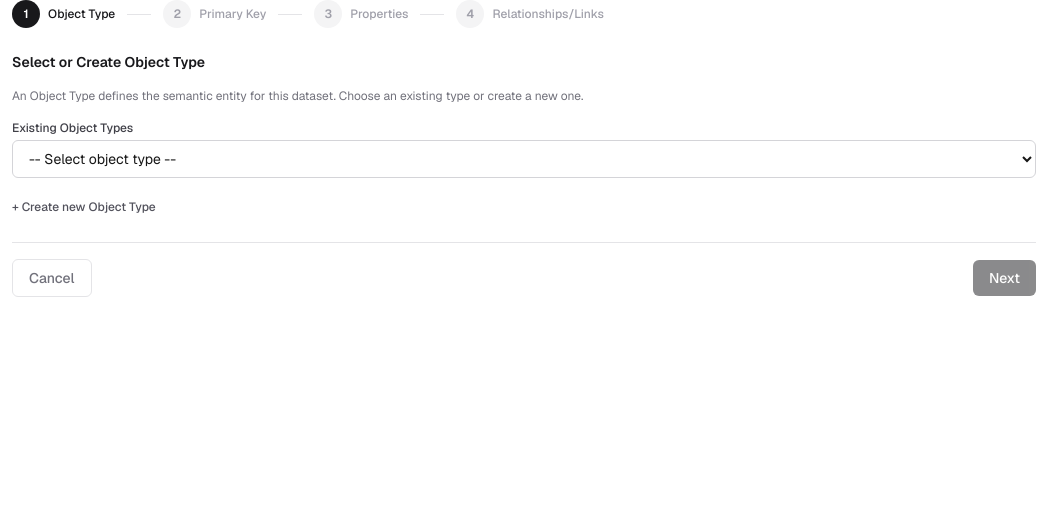
Test: EntityMappingWizard › Step 3: Properties › renders property mapping grid with all columns
Expected: the heading "Select or Create Object Type" is shown, [12,53,205,71]
Step 1. Select "Employee (employee)" in the dropdown → (524, 159), box [12,140,1036,178]
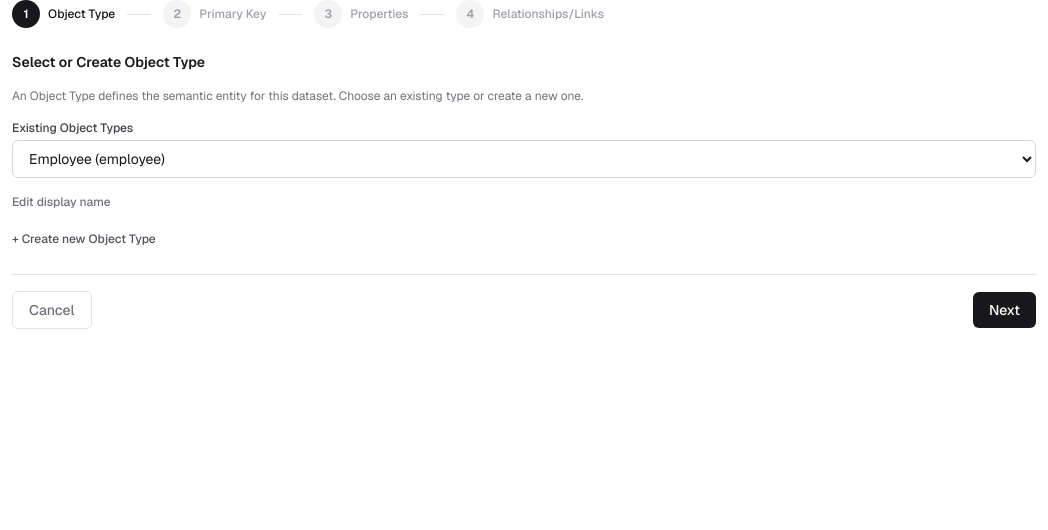
Step 2. Click the button "Next" → (1004, 310), box [973,292,1036,328]
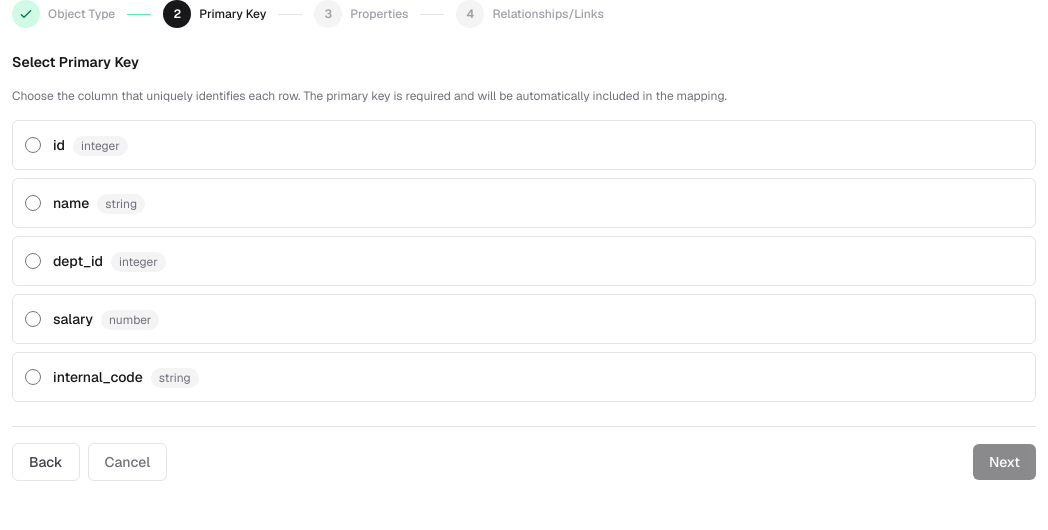
Result: the heading "Select Primary Key" is shown at [12,53,139,71]
Step 3. Click the radio button labelled "id integer" → (33, 145), box [25,137,41,153]
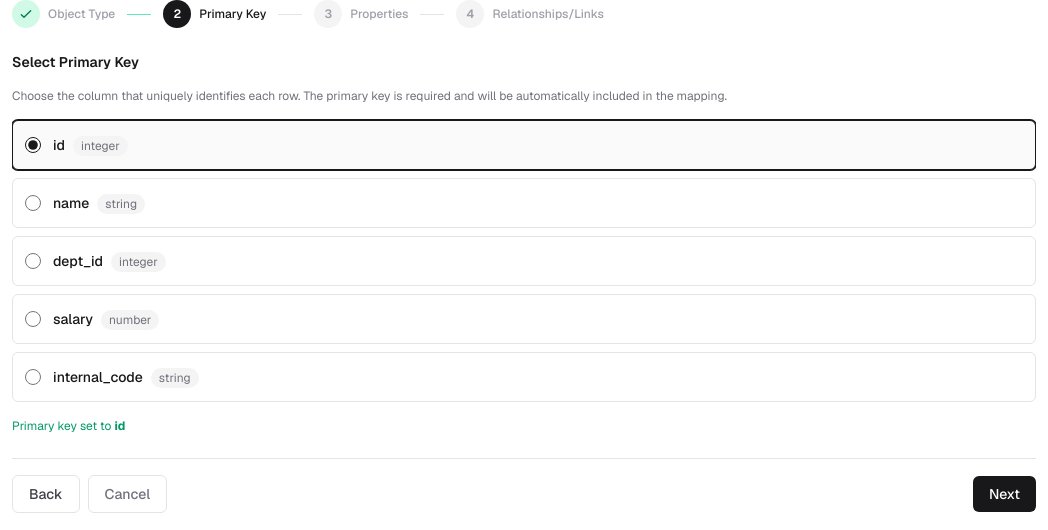
Step 4. Click the button "Next" → (1004, 494), box [973,476,1036,512]
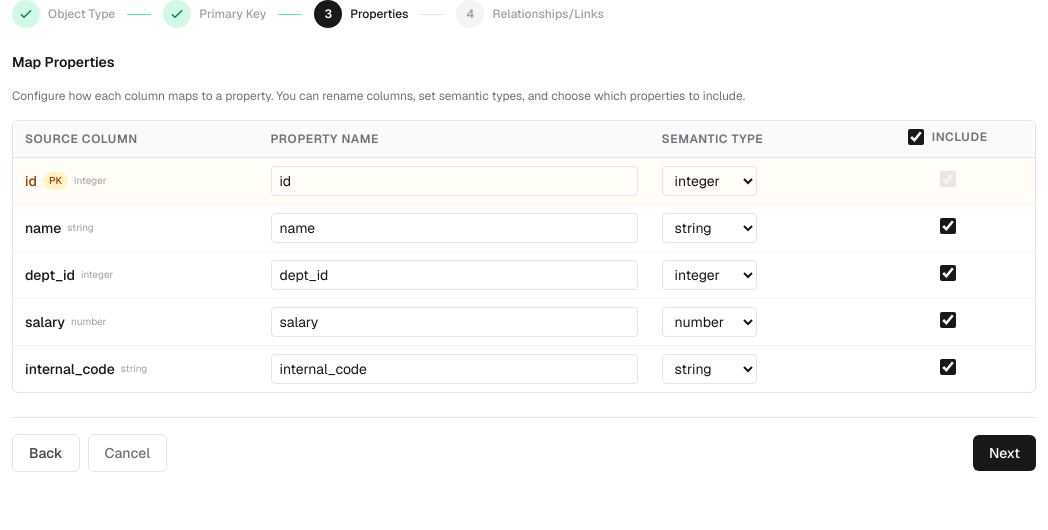
Result: the text "id" is shown at [25,171,37,191]
Result: the heading "Map Properties" is shown at [12,53,114,71]
Result: the text "name" is shown at [25,218,61,238]
